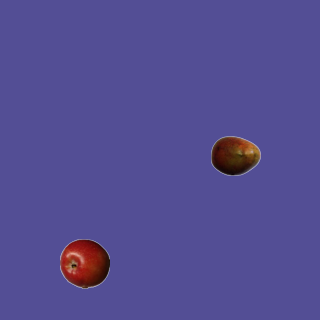Apple Braeburn: (59, 238, 109, 288)
Mango Red: (210, 130, 260, 180)
